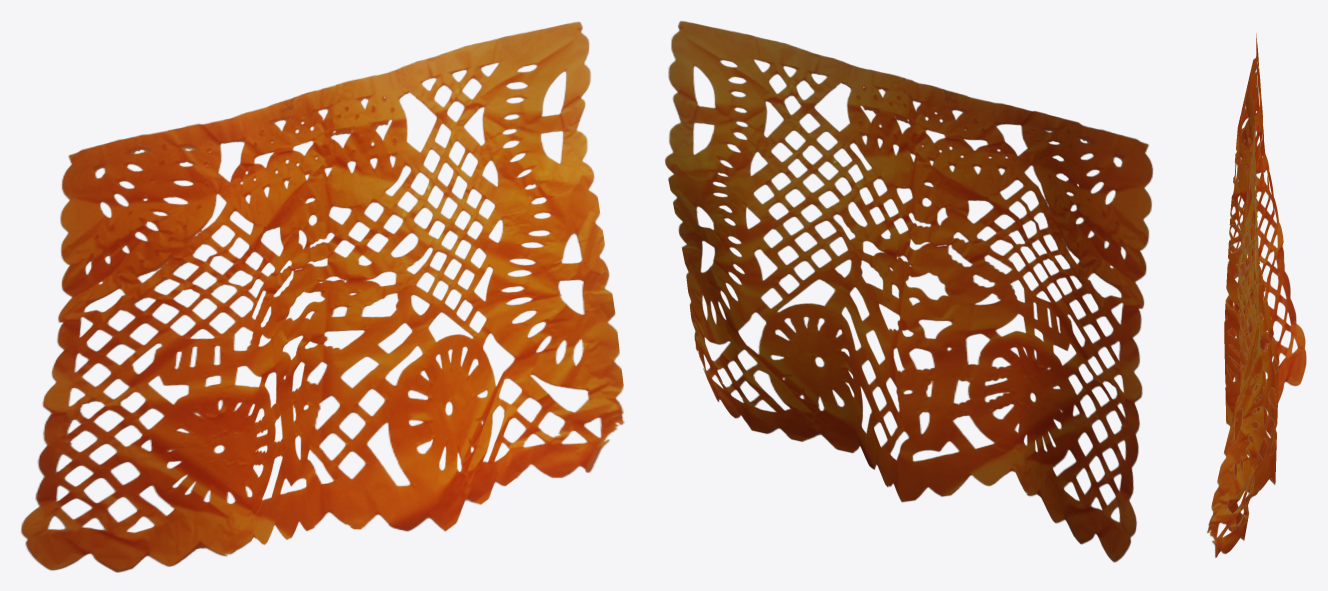
File: papel.glb
3 views of the same model, side by side, from view 1: azimuth 30°, elevation 25°; view 2: azimuth 150°, elevation 25°; view 3: azimuth 270°, elevation 25° (orthographic). The views are drawn at different scales.
Parts seen in each view (by area): view 1: Plane.002_0; view 2: Plane.002_0; view 3: Plane.002_0.
Boxes of the visible parts, x1,y1,x2,y2 form: Plane.002_0: (21, 21, 624, 572); Plane.002_0: (665, 21, 1153, 562); Plane.002_0: (1207, 33, 1306, 557).
Bounding box in the file's own units: 2.52 × 2.05 × 0.5963.
1 material, 1 textured.
